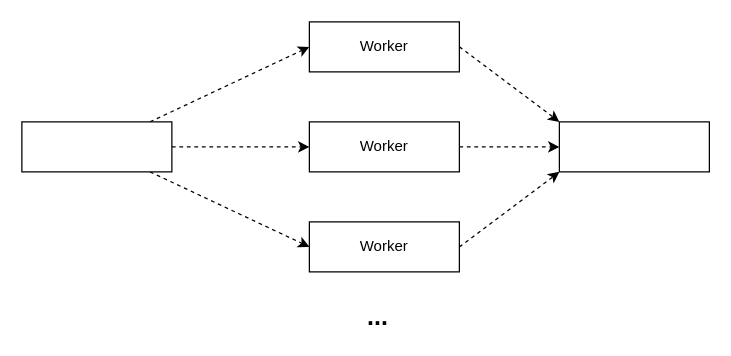
Image size: 731x356. Some labels were removed from this diagram. The shapes that lost their labels are listed below. From the top down, each one's centre as x and y in pixels, then its label:
the point at 96,146: Emitter
the point at 633,146: Collector
